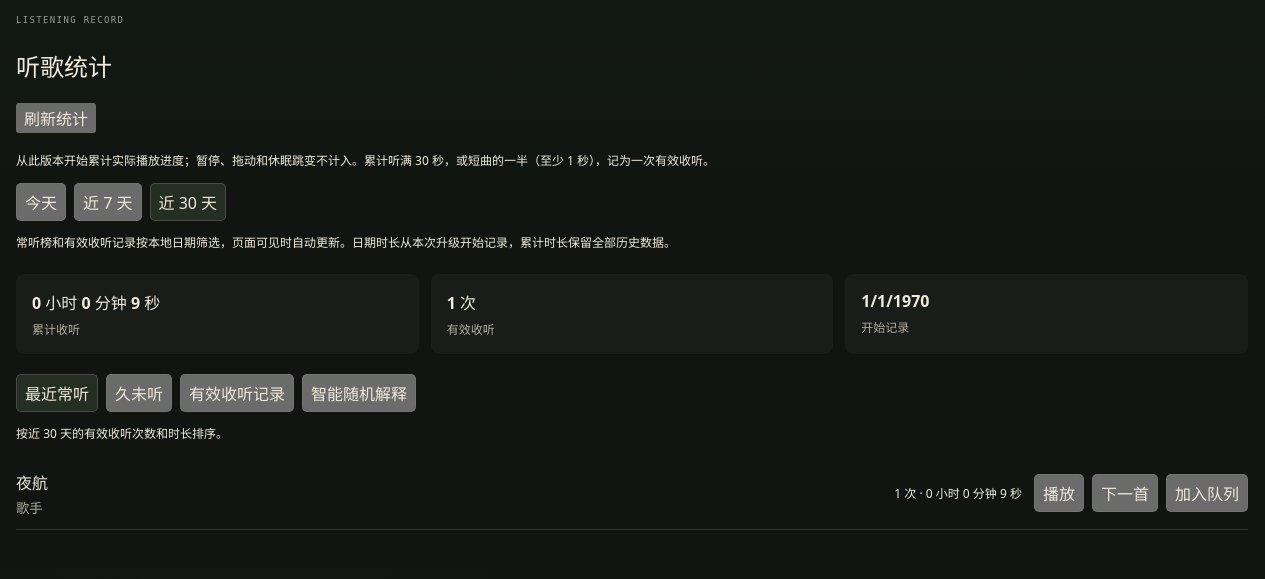
Test: 统计和实际权重说明显示生效状态与喜欢因素
This screenshot has width=1265, height=579.
Expected: the text "1 次" is shown, 447,292 -> 476,314
What coordinates should you click on to do the following:
click the button "智能随机解释"
I would click on:
 (359, 393)
Its box is 302,374 -> 416,412.
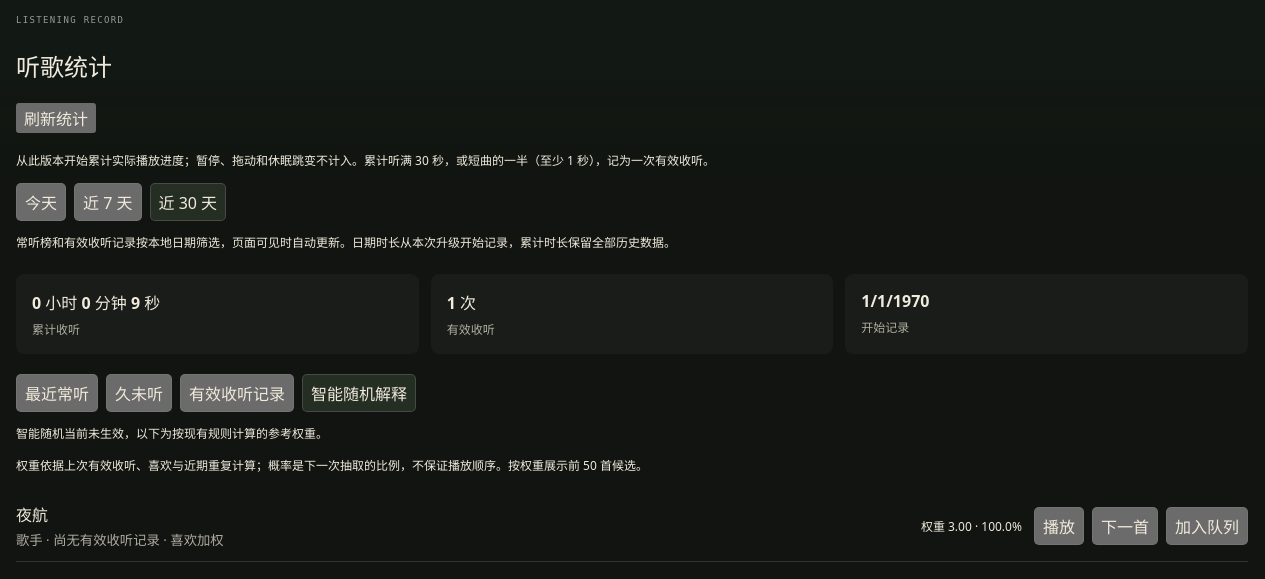
Now the text "智能随机当前未生效，以下为按现有规则计算的参考权重。" is shown, box 16,425 -> 328,442
Now the text "歌手 · 尚无有效收听记录 · 喜欢加权" is shown, box 16,531 -> 224,549
Now the text "权重 3.00 · 100.0%" is shown, box 921,517 -> 1022,535
